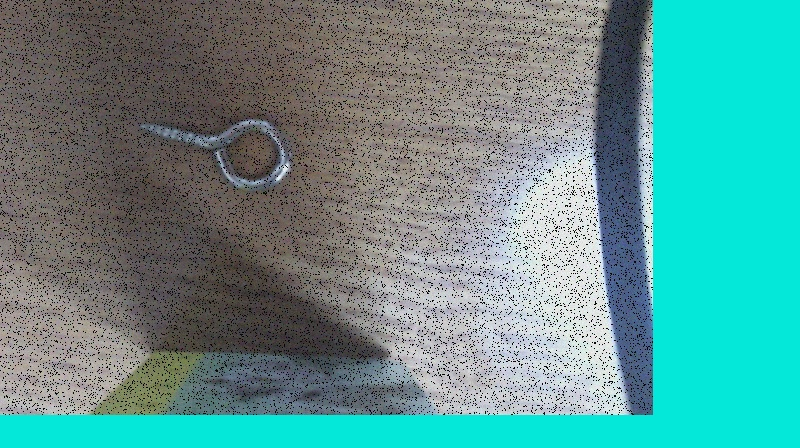O001: (136, 112, 296, 191)
